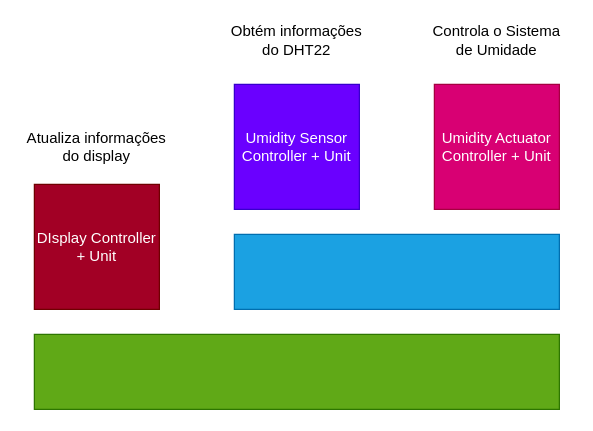
The diagram is 593 pixels wide and 431 high, and some of its shapes have lost their labels. The centre of each missing label's shape, as x and y in pixels:
"ESP32 (Application / Main Board)" goes at (296,371).
"Umidity Library" goes at (396,271).
